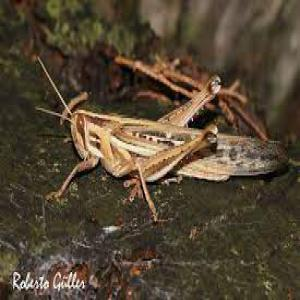locust: (47, 83, 300, 196)
